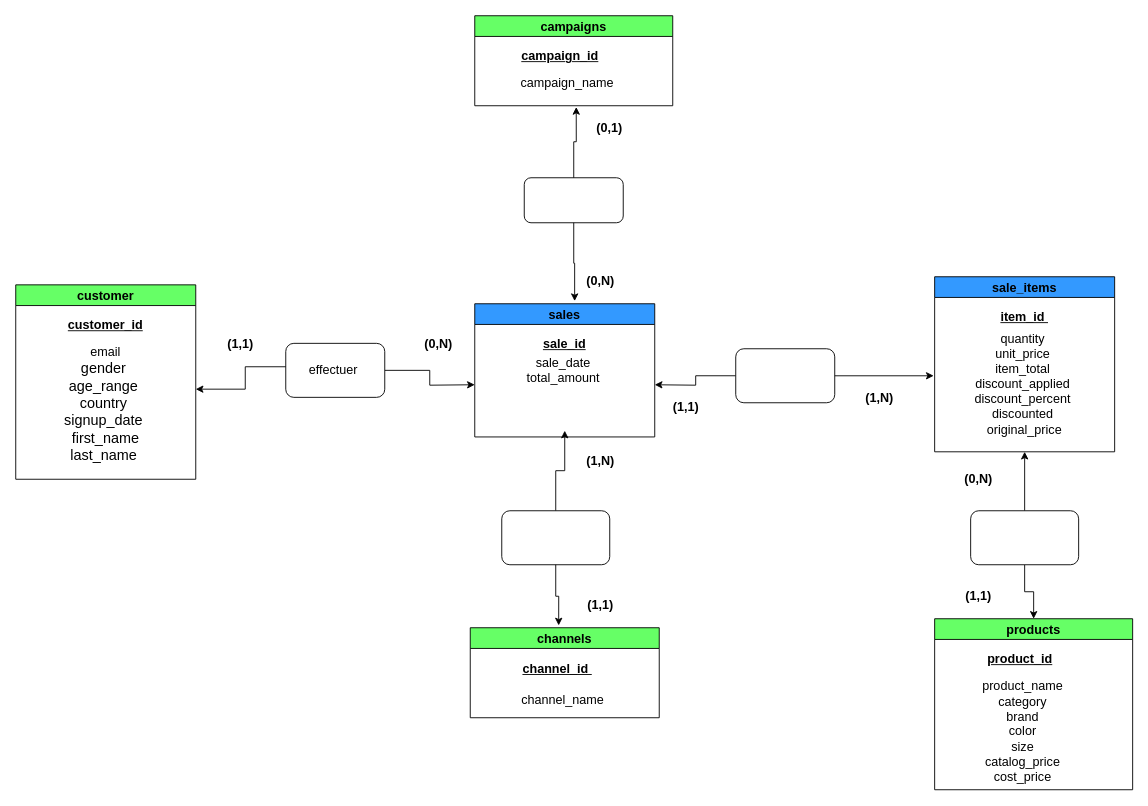
Image size: 1148x806. Some labels were removed from this diagram. Here are the shapes that lost their labels. From the top down, the centre of each, then its label:
At (573,200): "lier".
At (785,375): "appartenir".
At (555,537): "associer".
At (1024,537): "correspondre".
